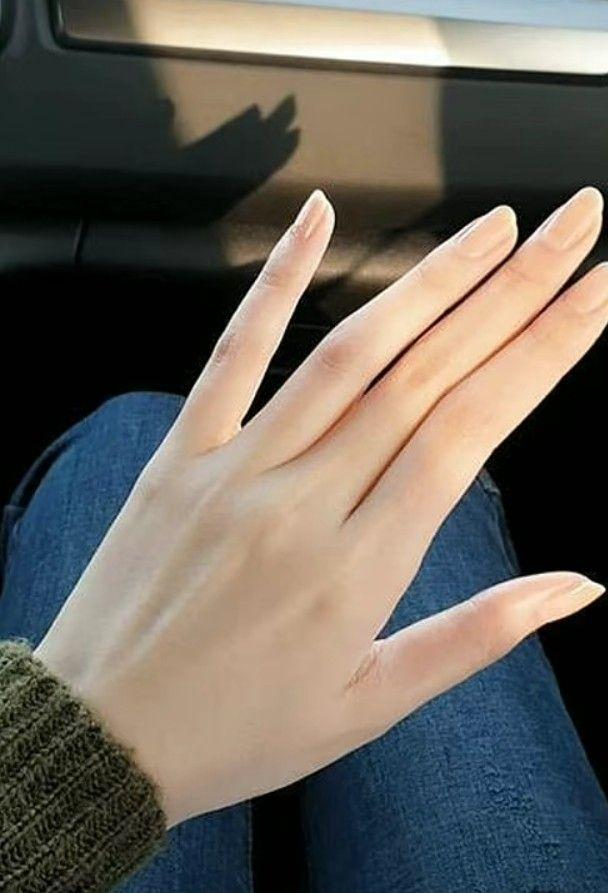palm: (50, 180, 608, 815)
